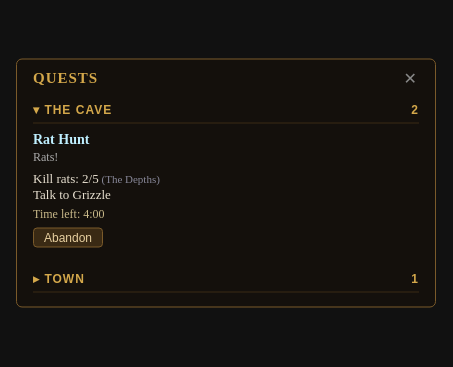
Test: QuestLog › opens another zone, naming its maps from Rails
Click the button "▸ Town 1": (65, 278) [33,266,419,292]
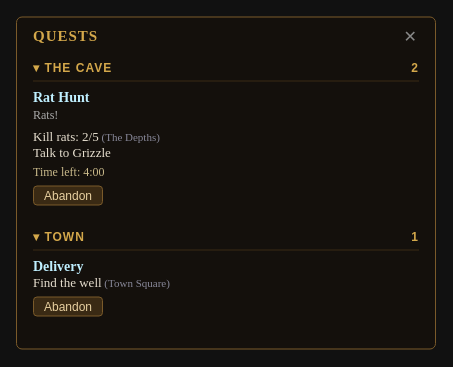
Result: the text "Delivery" is shown at [33,258,84,274]
Result: the text "(Town Square)" is shown at [102,276,170,288]
